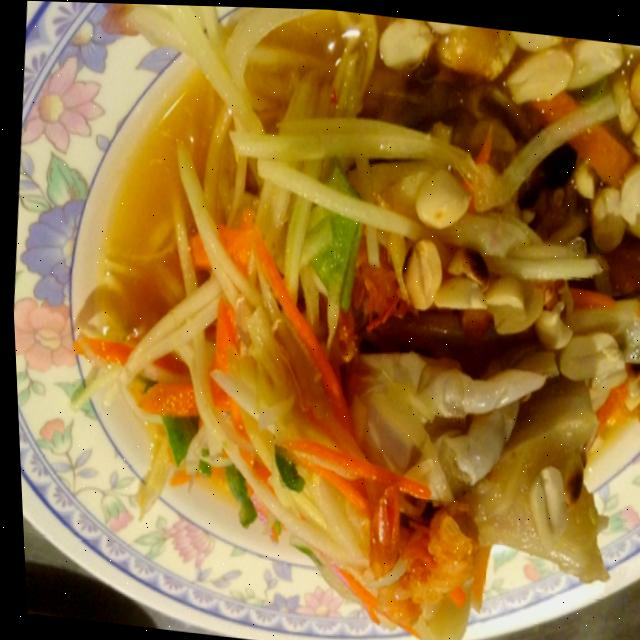蔬菜料理: (6, 0, 640, 640)
